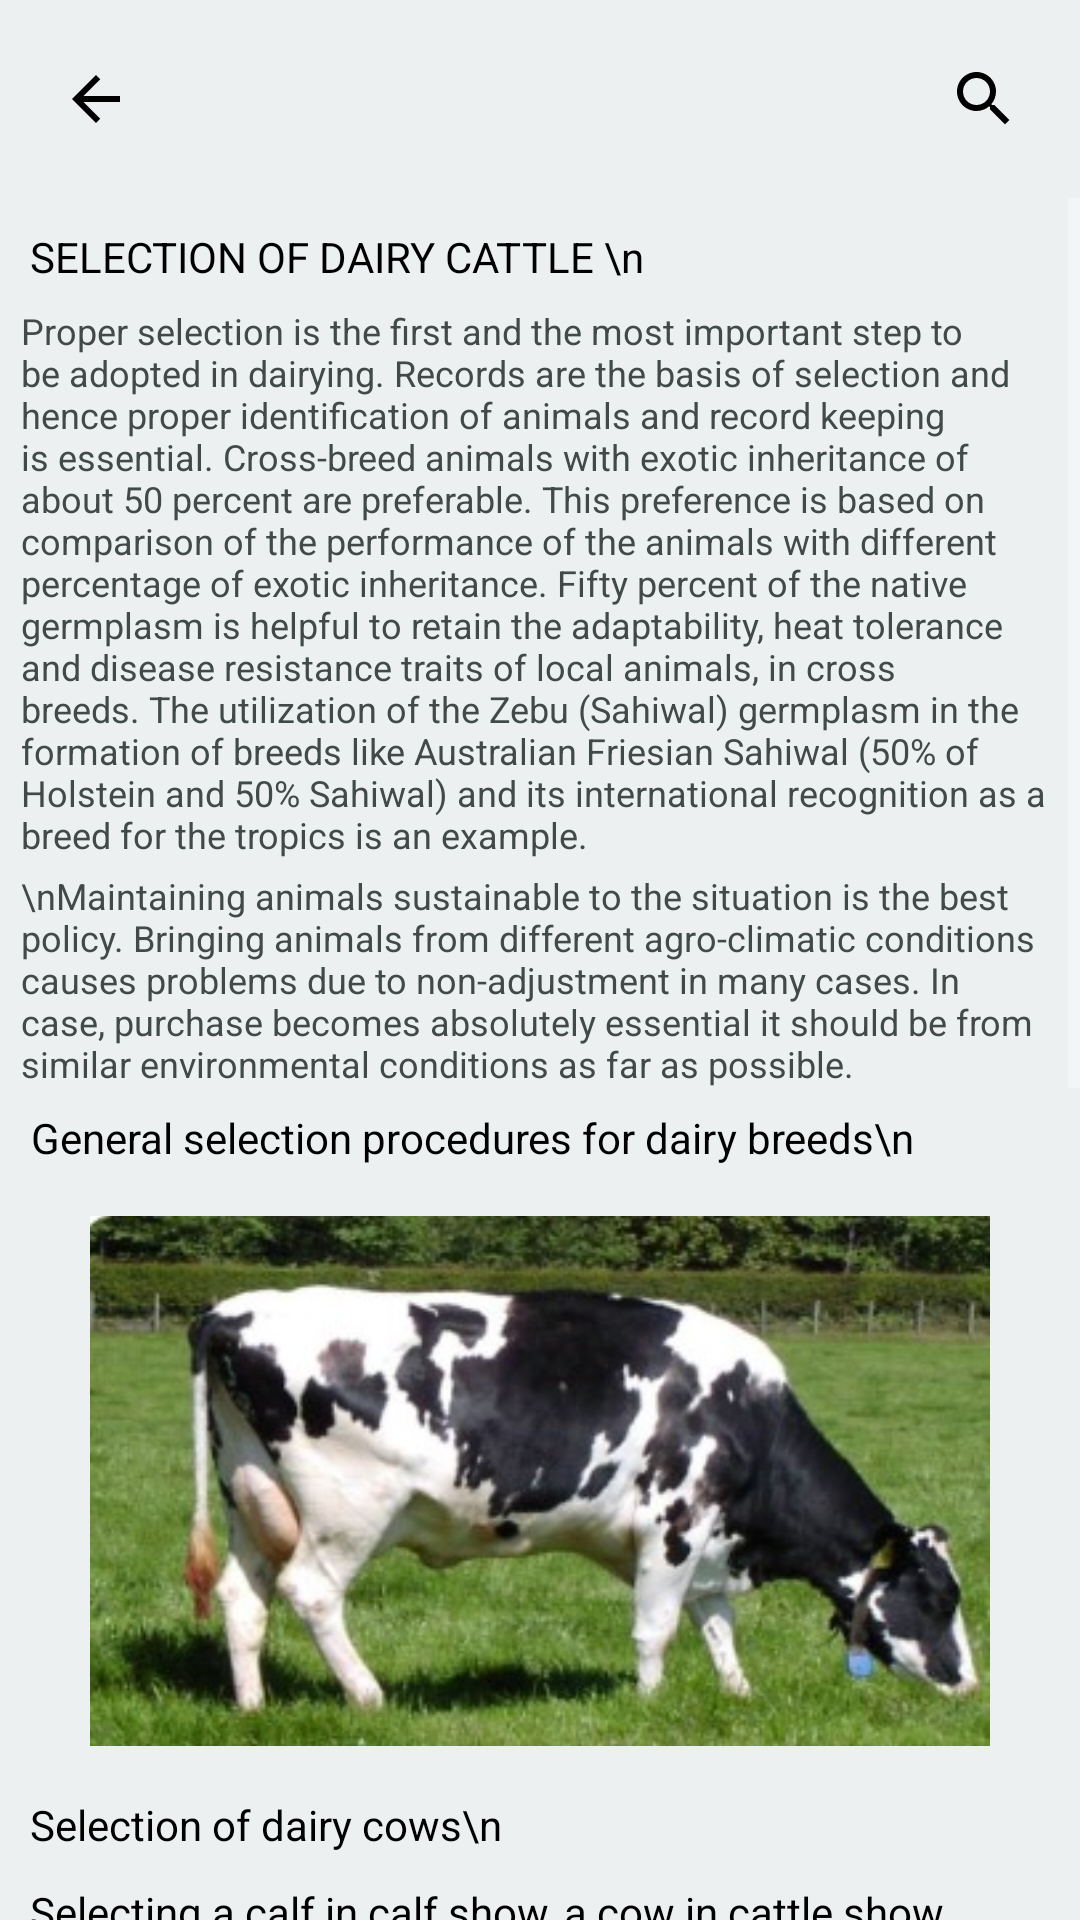

Icon bounding boxes for this 1080×1920 phone screenshot, format (x1, y1, x2, y2):
arrow back: (72, 75, 120, 123)
search: (957, 72, 1009, 124)
